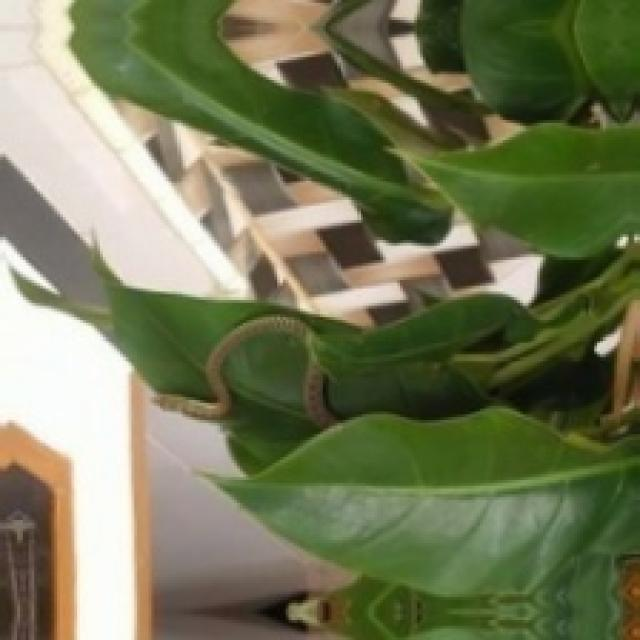paradise tree snake: (155, 315, 336, 429)
